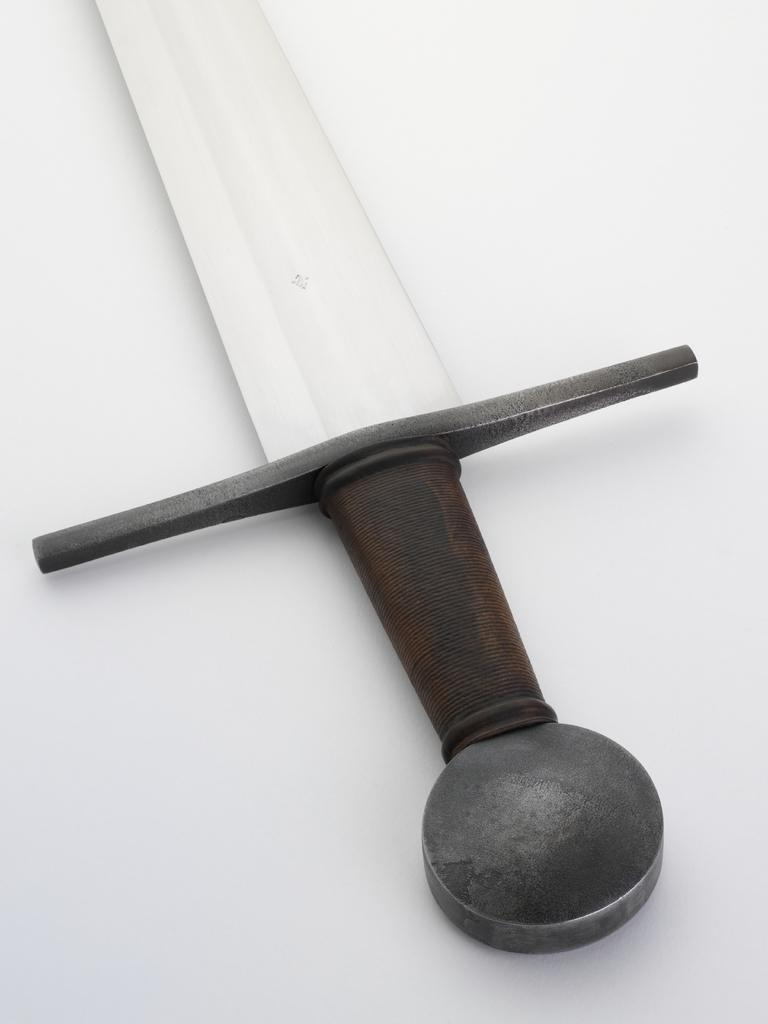Sword: (33, 0, 696, 949)
